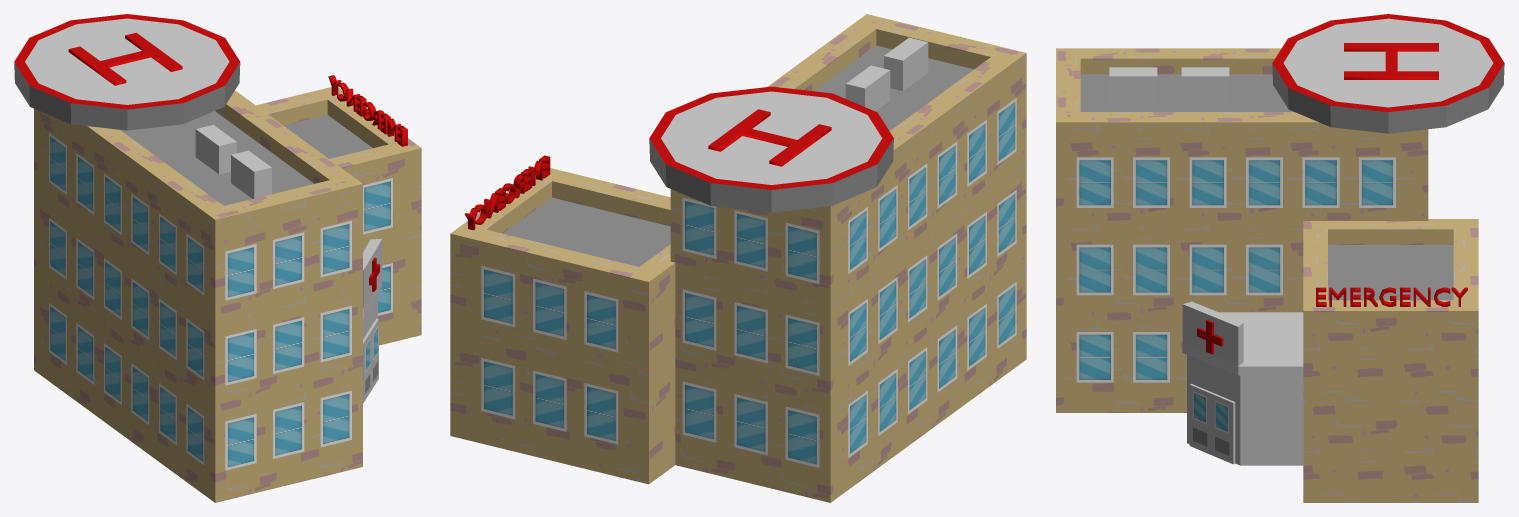
Rendered from Hospital.fbx.
3 views of the same model, side by side, from view 1: azimuth 30°, elevation 25°; view 2: azimuth 150°, elevation 25°; view 3: azimuth 270°, elevation 25° (orthographic). The views are drawn at different scales.
Visible parts, largest first — view 1: Hospital; view 2: Hospital; view 3: Hospital.
Part boxes in pixels (x1,y1,x2,y2): Hospital: [14, 14, 421, 502]; Hospital: [450, 14, 1026, 502]; Hospital: [1056, 14, 1504, 502].
Size of the model in its own units: 12.97 by 10.86 by 14.
